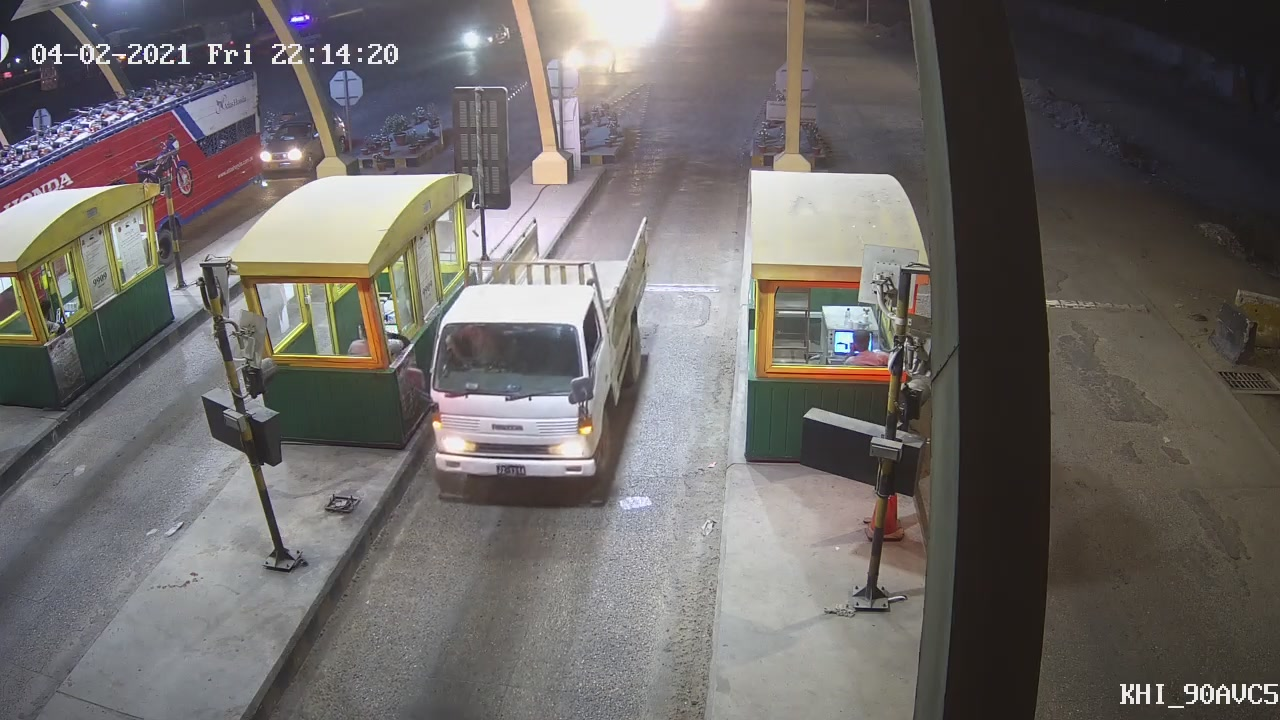F2: (401, 214, 659, 494)
